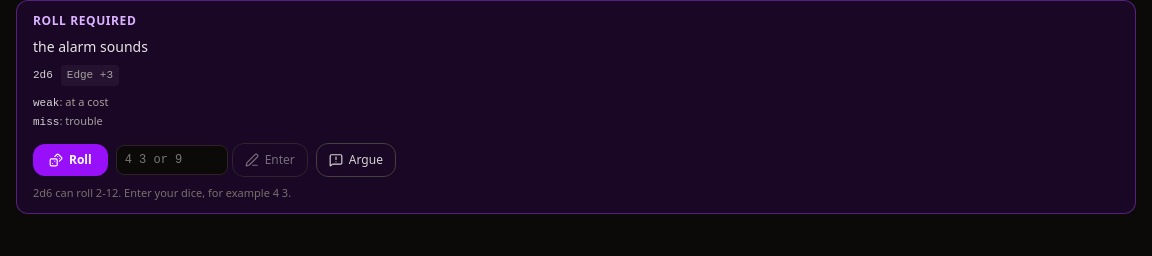
Test: PendingCheckCard › shows the notation range and previews the total
Expected: the text "2d6 can roll 2-12. Enter your dice, for example 4 3." is shown, [33,184,291,200]
Type "4 3" into the field named "manual roll" at (172, 160), box [116,144,228,174]
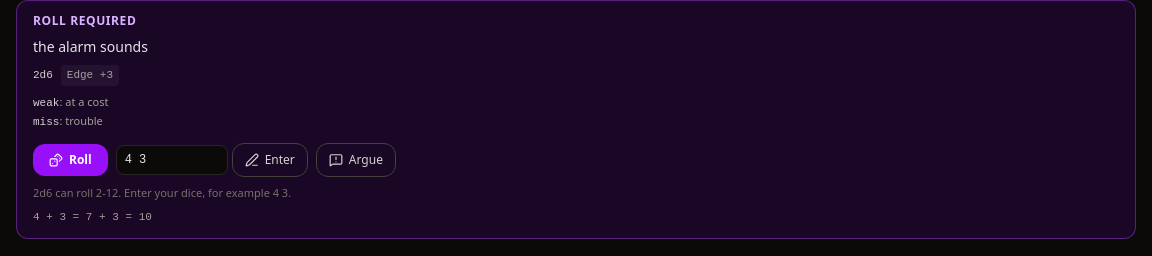
Expected: the text "4 + 3 = 7 + 3 = 10" is shown, [33,211,152,223]
